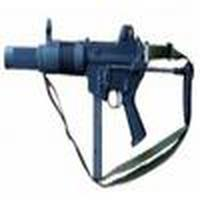gun: (1, 16, 199, 128)
